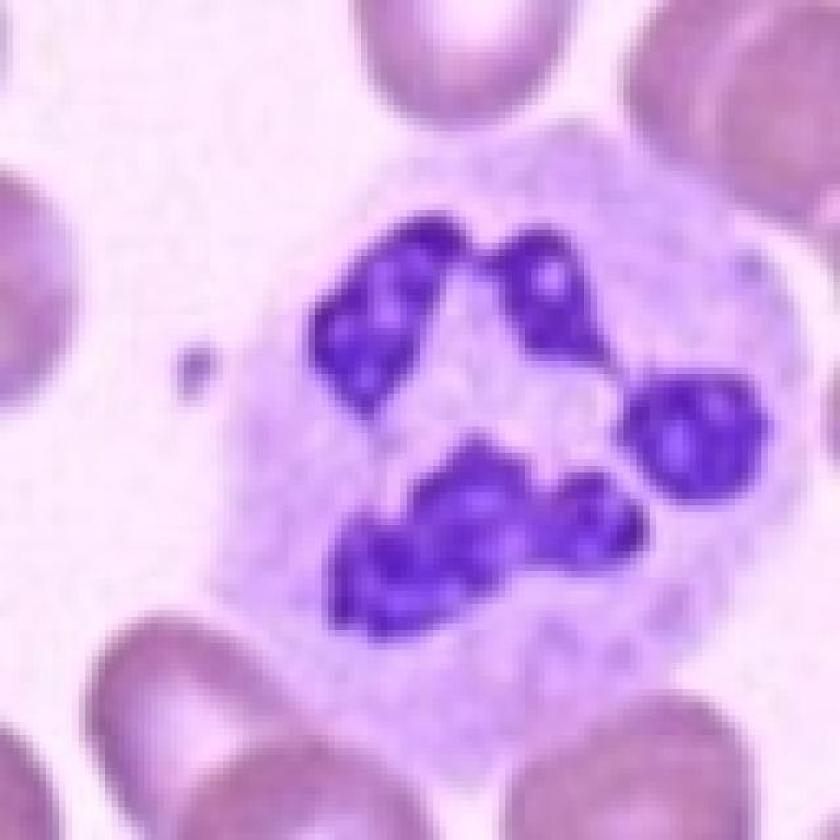neutrophil: (199, 123, 812, 790)
